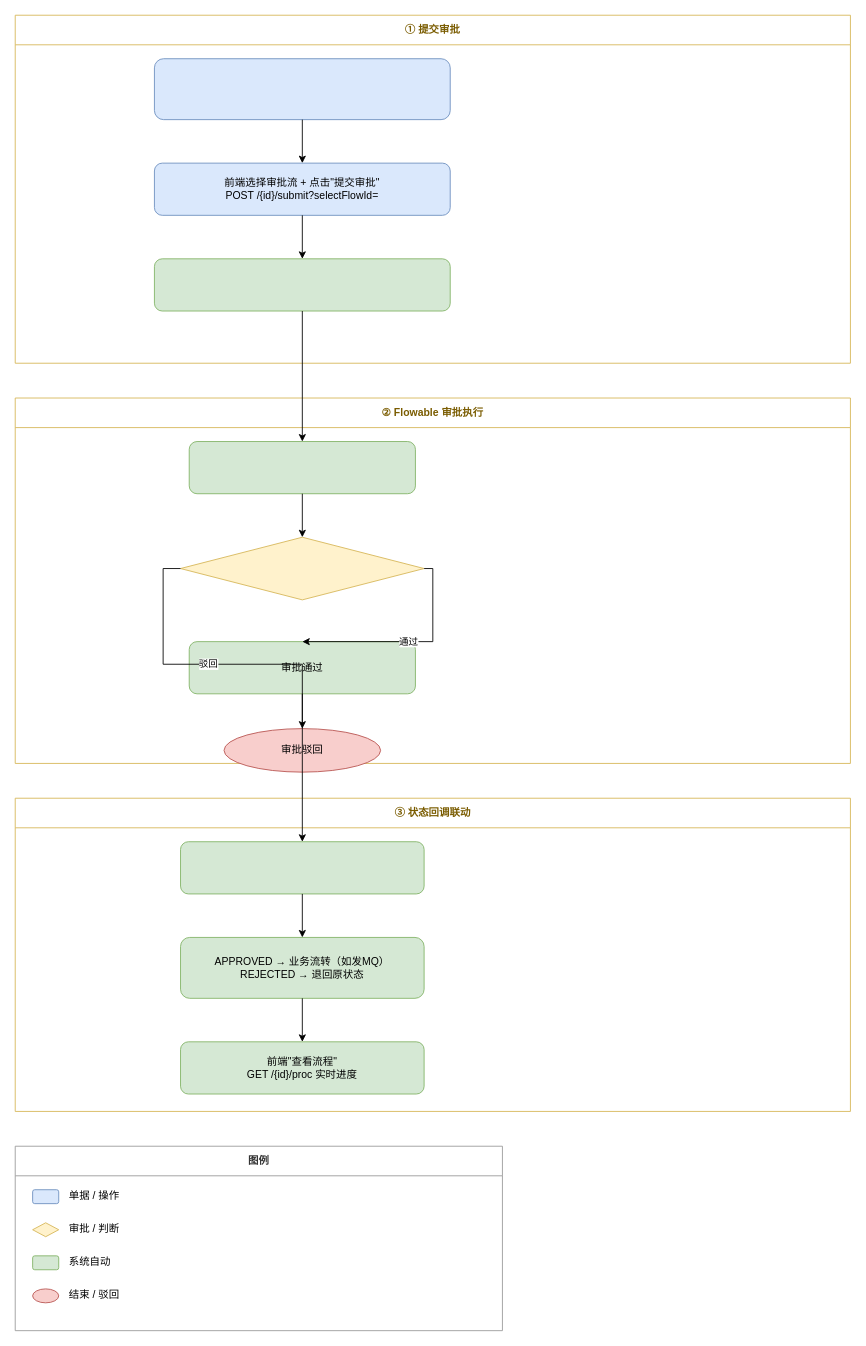
The diagram is 866 pixels wide and 1346 high, and some of its shapes have lost their labels. The centre of each missing label's shape, as x and y in pixels:
afterFlowHandle() 同步业务状态: the point at 302,867
Service.submit() → processService.startProcessByDataId(): the point at 302,284
业务单据（9 类可审批单据） PU：申请/订单/退货 WM：入库/出库/调拨/盘点 PRD：工单 SO：订单/退货: the point at 302,89
发起流程实例: the point at 301,467
审批节点执行 （多级审批 / 并行审批 / 代理审批）: the point at 302,568
